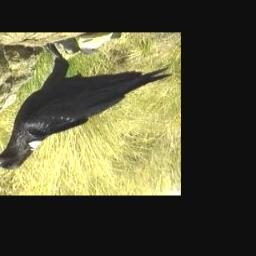Crow: (0, 41, 174, 171)
